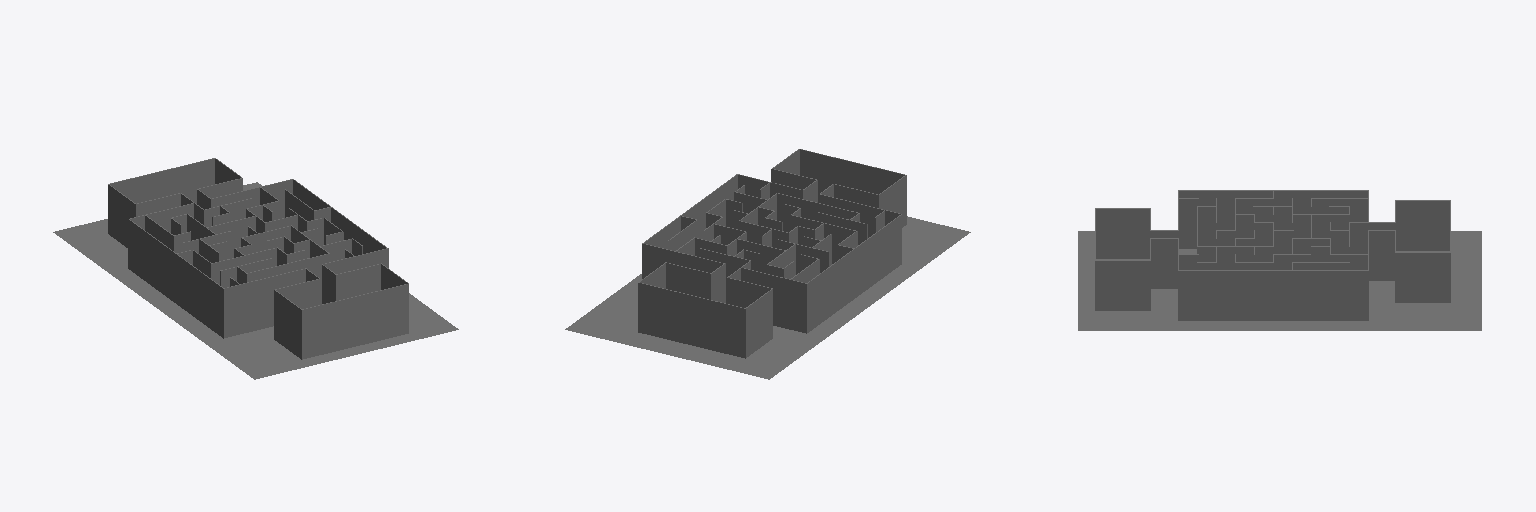
File: maze.obj
3 views of the same model, side by side, from view 1: azimuth 30°, elevation 25°; view 2: azimuth 150°, elevation 25°; view 3: azimuth 270°, elevation 25° (orthographic).
Visible parts, largest first — view 1: pPlane1, pCube62, pCube16, pCube48, pCube3, pCube65, pCube38, pCube60, pCube5, pCube10, pCube68, pCube64 (+9 smaller); view 2: pPlane1, pCube3, pCube16, pCube62, pCube15, pCube38, pCube5, pCube10, pCube6, pCube68, pCube48, pCube4 (+9 smaller); view 3: pPlane1, pCube38, pCube7, pCube61, pCube5, pCube65, pCube16, pCube59, pCube9, pCube44, pCube24, pCube66 (+4 smaller).
Boxes of the visible parts, x1=… form: pPlane1: x1=53, y1=182, x2=458, y2=379; pCube62: x1=302, y1=284, x2=408, y2=358; pCube16: x1=129, y1=219, x2=222, y2=337; pCube48: x1=223, y1=268, x2=306, y2=338; pCube3: x1=110, y1=158, x2=214, y2=203; pCube65: x1=274, y1=290, x2=302, y2=359; pCube38: x1=293, y1=179, x2=386, y2=253; pCube60: x1=336, y1=264, x2=380, y2=300; pCube5: x1=108, y1=184, x2=135, y2=247; pCube10: x1=210, y1=179, x2=292, y2=218; pCube68: x1=246, y1=253, x2=328, y2=304; pCube64: x1=275, y1=279, x2=320, y2=308; pPlane1: x1=565, y1=216, x2=970, y2=379; pCube3: x1=638, y1=282, x2=745, y2=358; pCube16: x1=806, y1=214, x2=901, y2=332; pCube62: x1=800, y1=149, x2=904, y2=202; pCube15: x1=741, y1=267, x2=807, y2=333; pCube38: x1=642, y1=174, x2=737, y2=278; pCube5: x1=745, y1=288, x2=772, y2=357; pCube10: x1=642, y1=243, x2=725, y2=302; pCube6: x1=665, y1=262, x2=711, y2=299; pCube68: x1=777, y1=193, x2=857, y2=221; pCube48: x1=820, y1=194, x2=900, y2=237; pCube4: x1=727, y1=278, x2=771, y2=307; pPlane1: x1=1078, y1=231, x2=1481, y2=330; pCube38: x1=1179, y1=270, x2=1368, y2=320; pCube7: x1=1395, y1=252, x2=1450, y2=302; pCube61: x1=1096, y1=260, x2=1150, y2=310; pCube5: x1=1396, y1=200, x2=1450, y2=250; pCube65: x1=1096, y1=208, x2=1149, y2=258; pCube16: x1=1179, y1=190, x2=1368, y2=229; pCube59: x1=1150, y1=238, x2=1178, y2=288; pCube9: x1=1368, y1=230, x2=1395, y2=280; pCube44: x1=1197, y1=246, x2=1273, y2=269; pCube24: x1=1292, y1=214, x2=1349, y2=237; pCube66: x1=1178, y1=198, x2=1198, y2=248.
Size of the model in its own units: 41.98 by 9.75 by 71.64.